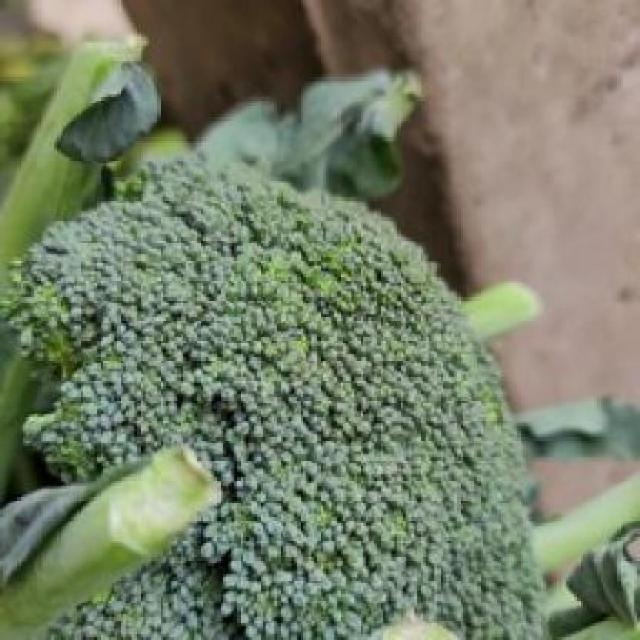broccoli: (40, 145, 577, 638)
